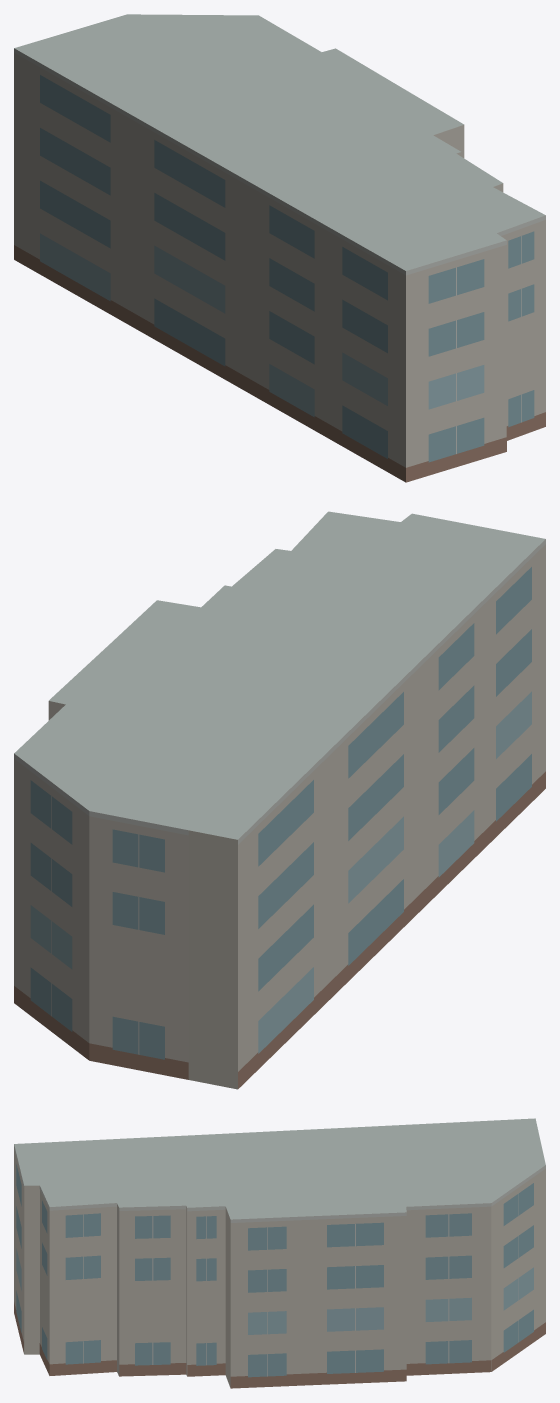
Rendered from survey-upis-32673662.glb.
The picture shows the model from 3 angles, top to bottom: view 1: azimuth 30°, elevation 25°; view 2: azimuth 150°, elevation 25°; view 3: azimuth 270°, elevation 25°; orthographic projection. The views are drawn at different scales.
Parts seen in each view (by area): view 1: survey-upis-32673662.tmp; view 2: survey-upis-32673662.tmp; view 3: survey-upis-32673662.tmp.
Boxes of the visible parts, <box> form: survey-upis-32673662.tmp: <box>14,14,545,482</box>; survey-upis-32673662.tmp: <box>14,511,545,1089</box>; survey-upis-32673662.tmp: <box>14,1118,545,1388</box>.
Size of the model in its own units: 15.03 by 11.7 by 33.39.
